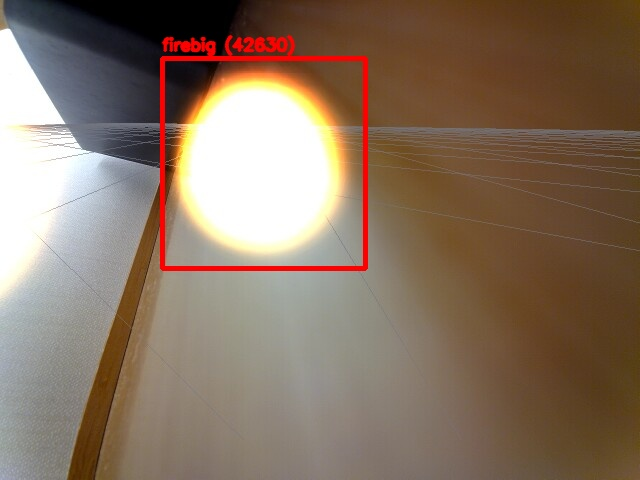firebig: (162, 58, 365, 268)
